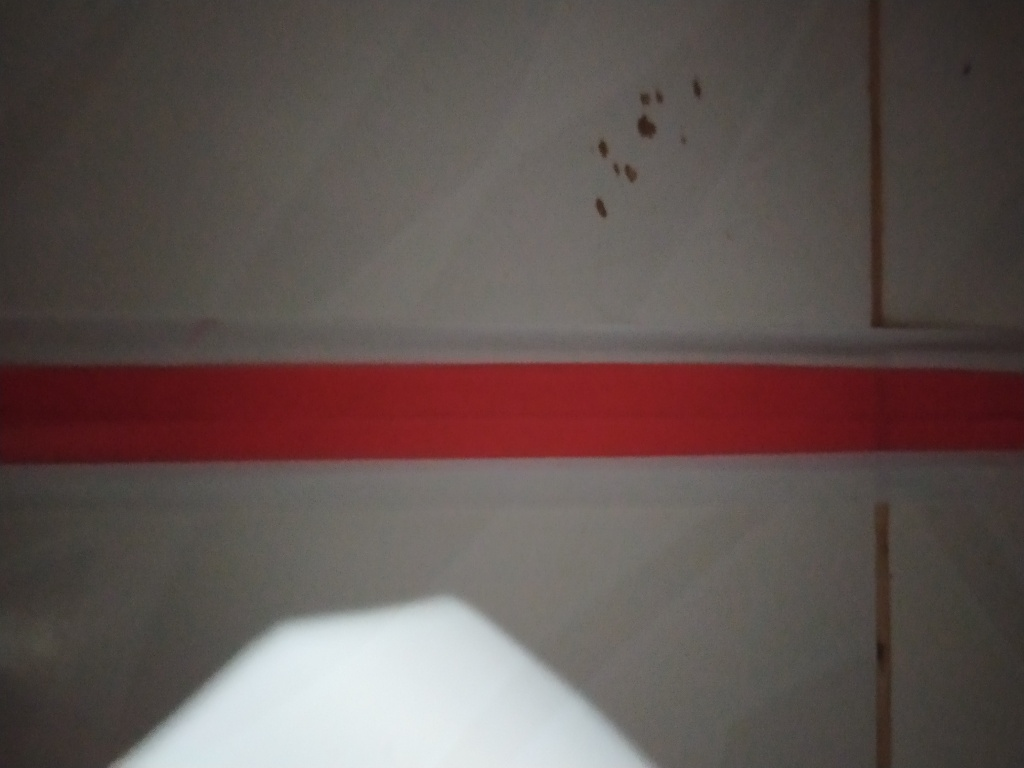reta: (9, 301, 1024, 511)
